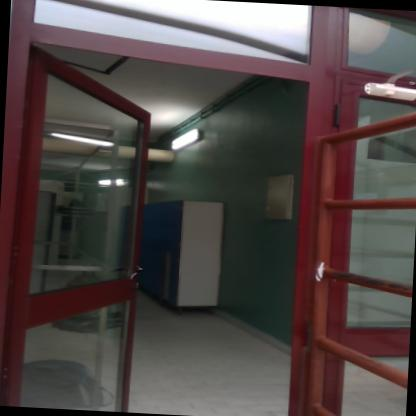semi: (0, 12, 326, 415)
